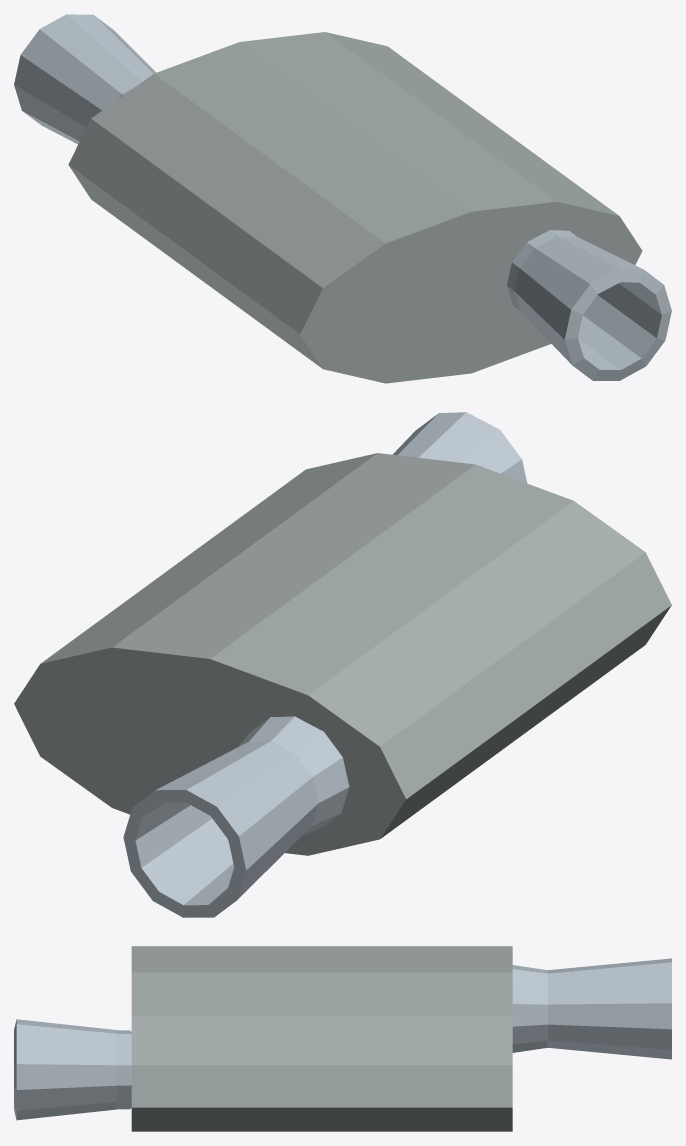
The model's file is Muffler.fbx.
The picture shows the model from 3 angles, top to bottom: view 1: azimuth 30°, elevation 25°; view 2: azimuth 150°, elevation 25°; view 3: azimuth 270°, elevation 25°; orthographic projection. The views are drawn at different scales.
Visible parts, largest first — view 1: Muffler; view 2: Muffler; view 3: Muffler.
Boxes of the visible parts, x1,y1,x2,y2 form: Muffler: [14, 14, 671, 383]; Muffler: [14, 412, 671, 917]; Muffler: [14, 946, 671, 1131].
Bounding box in the file's own units: 73.61 × 33.23 × 149.
